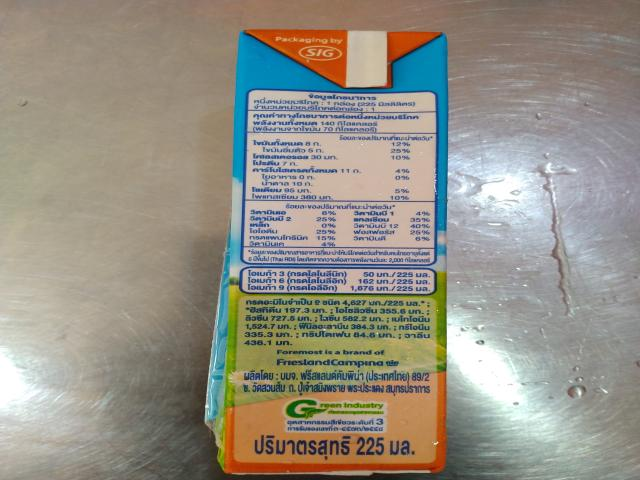drink_box: (191, 15, 475, 480)
